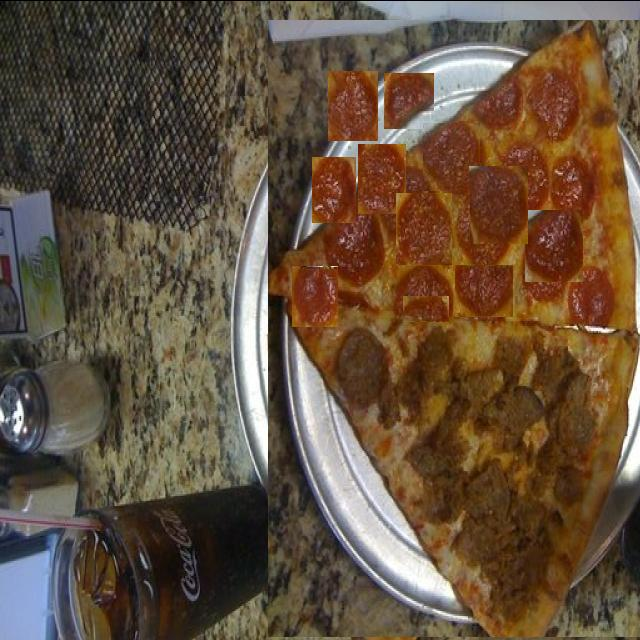pepperoni: (470, 165, 528, 243), (525, 209, 583, 281), (396, 192, 452, 264), (424, 122, 482, 190), (328, 70, 378, 140), (358, 143, 406, 213), (339, 228, 385, 298), (455, 264, 513, 316), (312, 156, 356, 222), (292, 265, 338, 326), (384, 72, 434, 128), (534, 287, 582, 312), (403, 295, 449, 321)
pizza: (268, 19, 640, 636)
